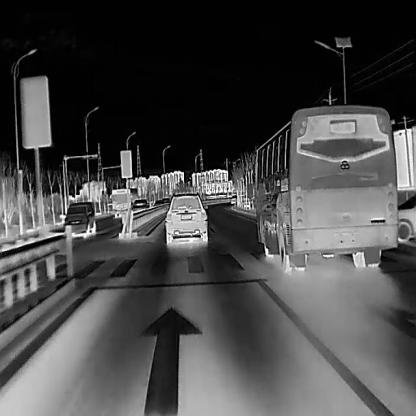bus: (246, 102, 398, 273), (111, 186, 137, 218)
car: (163, 189, 207, 244), (64, 200, 95, 237), (132, 198, 149, 217), (152, 198, 164, 210), (230, 196, 236, 203)
